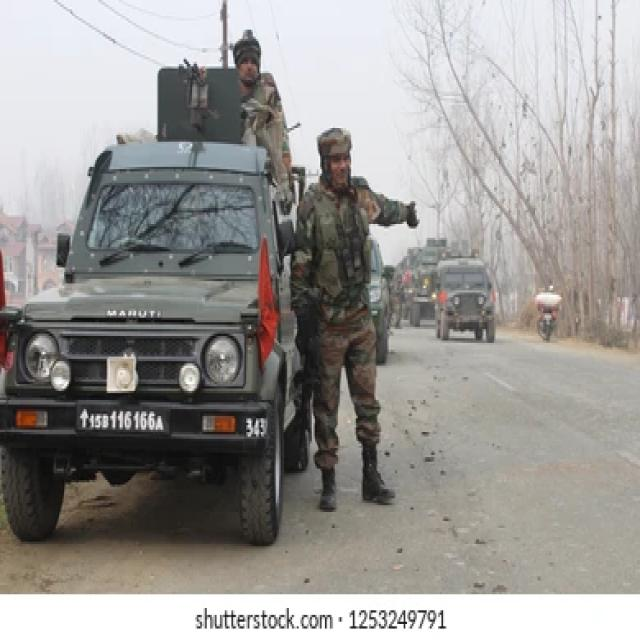military-plate: (72, 402, 172, 441)
unit number: (244, 414, 270, 441)
